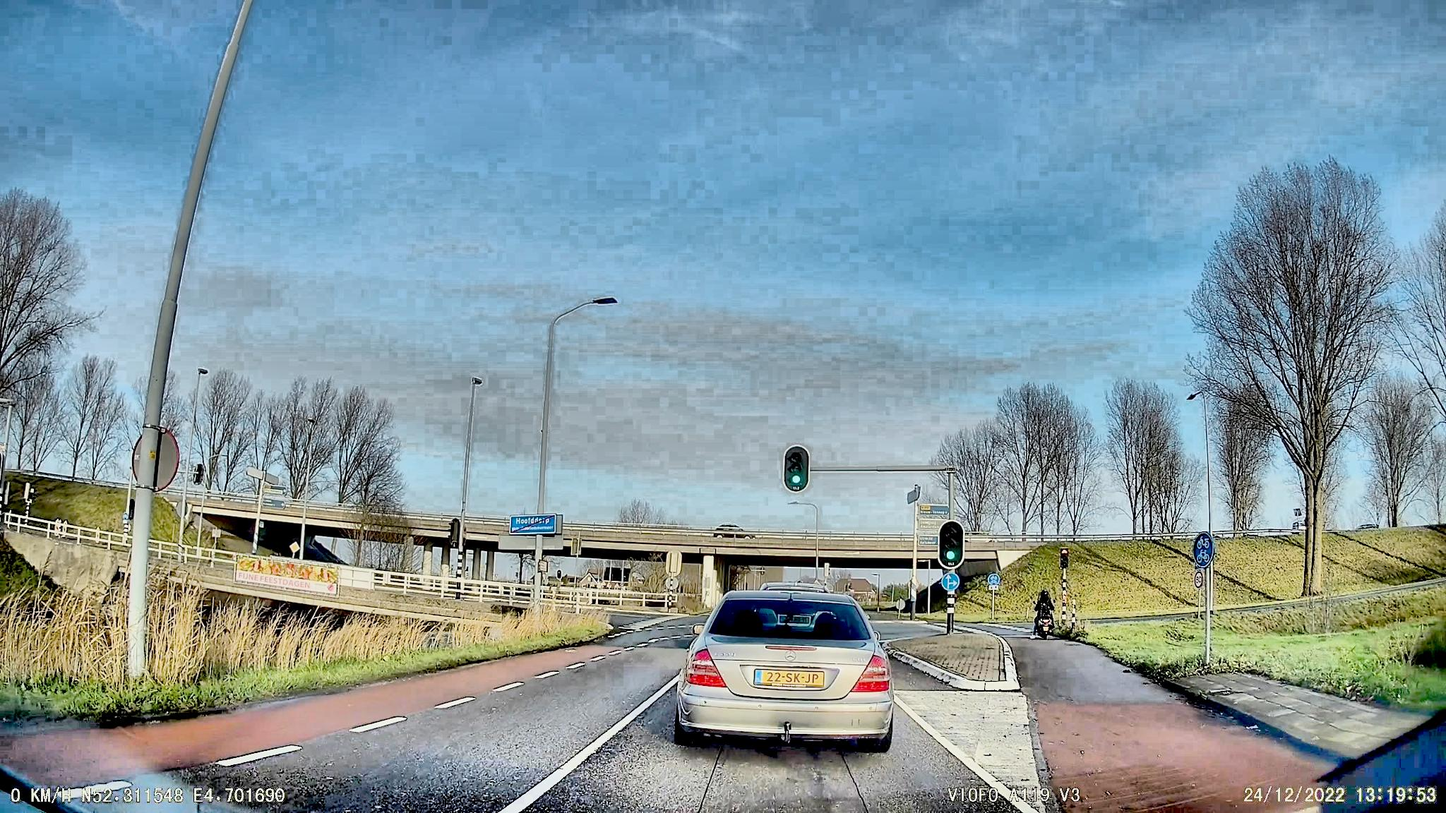Roads: (0, 610, 983, 813)
